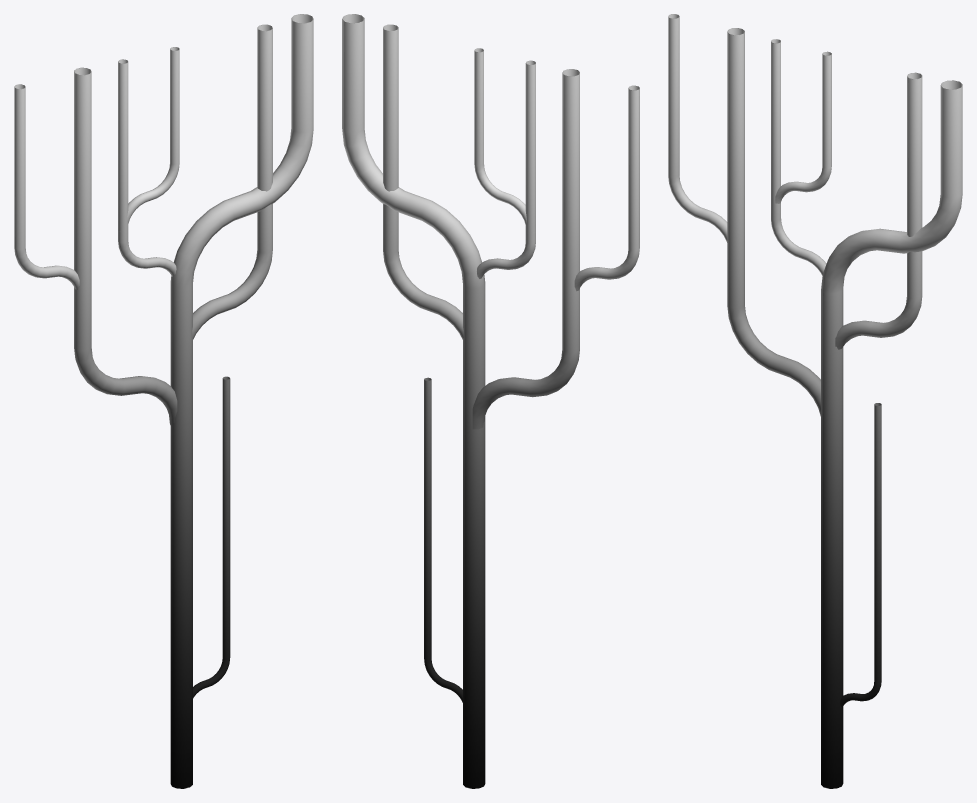
File: BG_Tree_V1.fbx
3 views of the same model, side by side, from view 1: azimuth 30°, elevation 25°; view 2: azimuth 150°, elevation 25°; view 3: azimuth 330°, elevation 25° (orthographic).
Parts seen in each view (by area): view 1: BG_Tree_V1; view 2: BG_Tree_V1; view 3: BG_Tree_V1.
Part boxes in pixels (x1,y1,x2,y2): BG_Tree_V1: [14, 14, 313, 788]; BG_Tree_V1: [342, 14, 639, 788]; BG_Tree_V1: [668, 14, 962, 788].
Bounding box in the file's own units: 440 × 1044 × 27.55.
